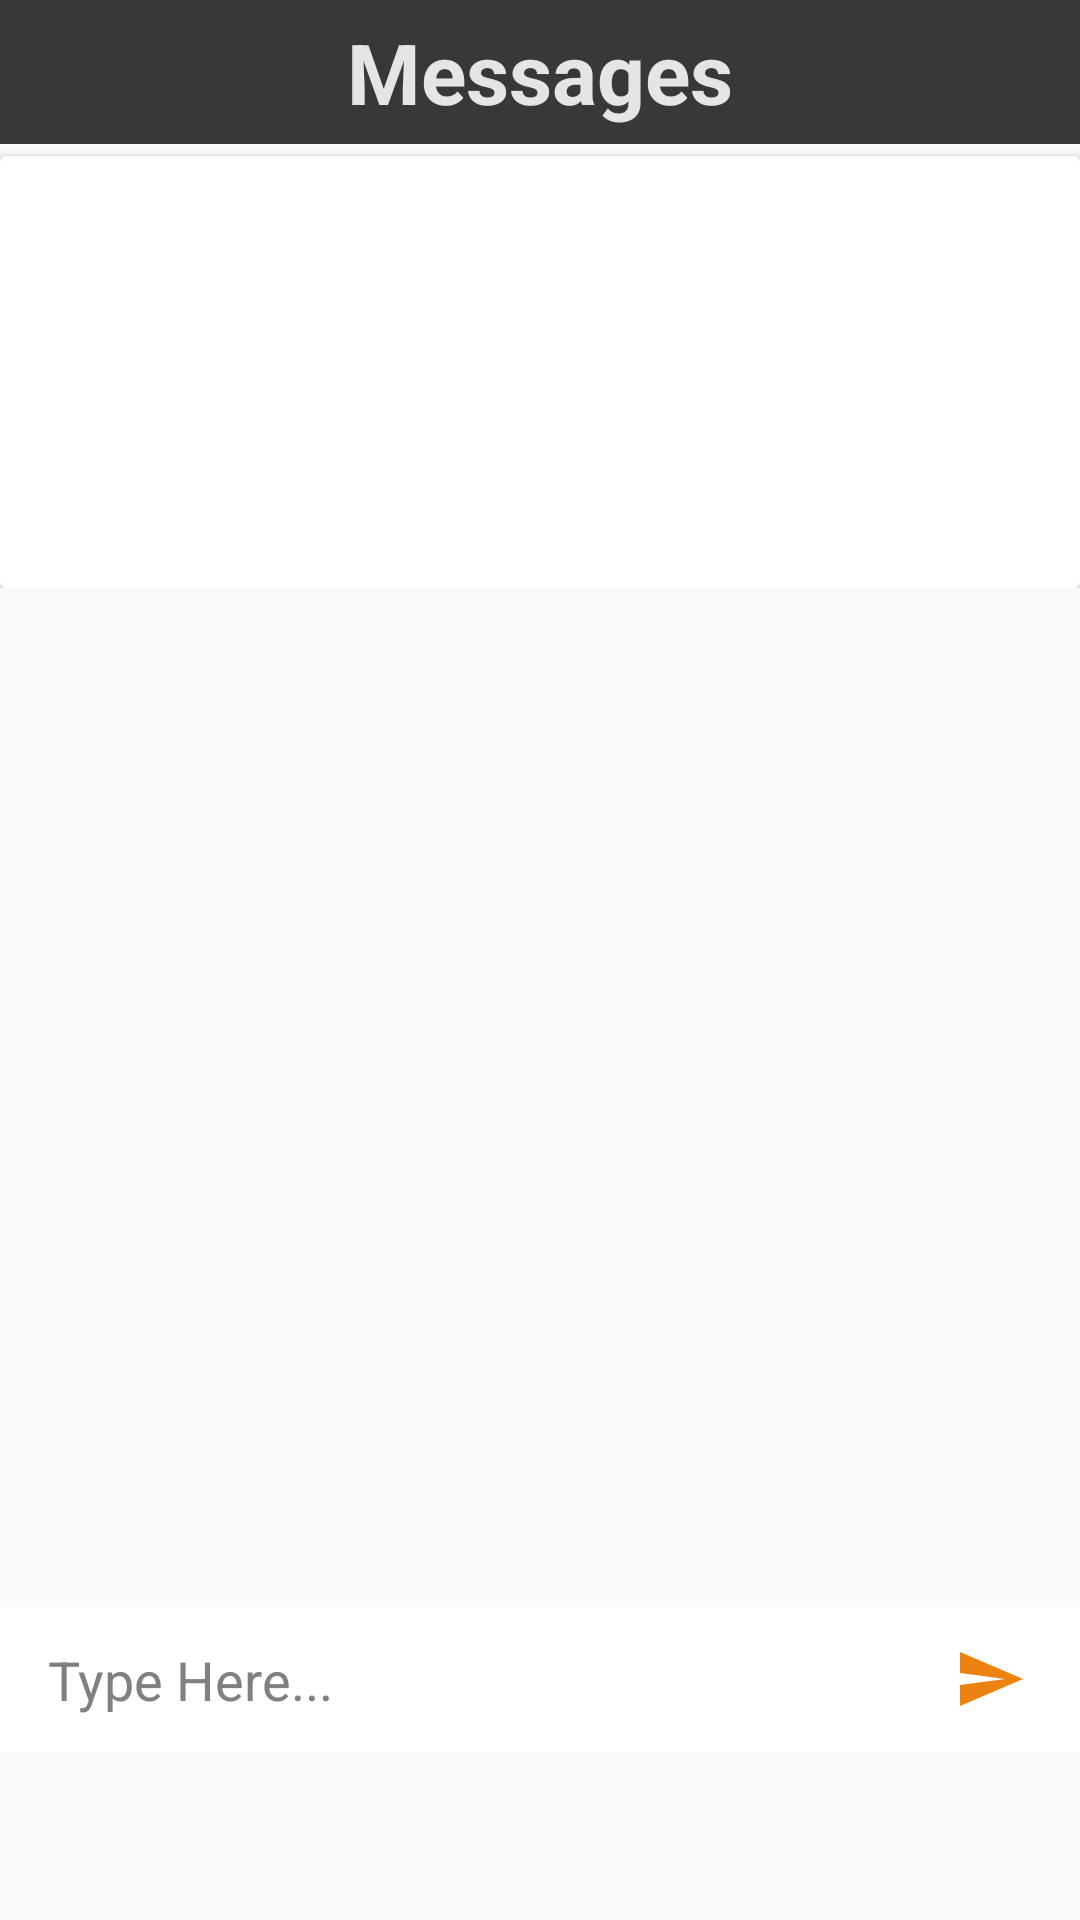

Named icons in this screenshot (1080x1920) and their centers, [x,y]:
Send Button for Messages typed: [991,1679]
